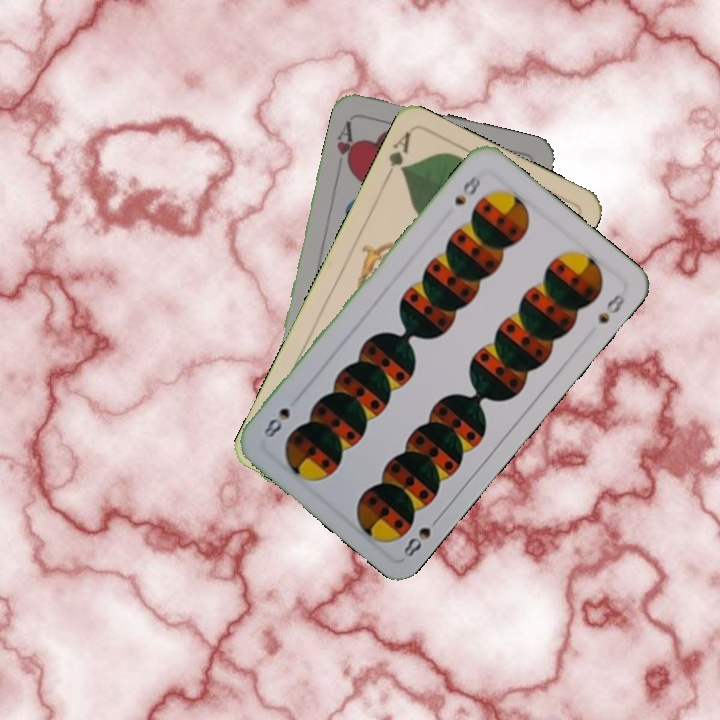GA: (381, 127, 414, 183)
HA: (332, 116, 359, 173)
S8: (399, 511, 444, 560), (450, 171, 484, 208)
